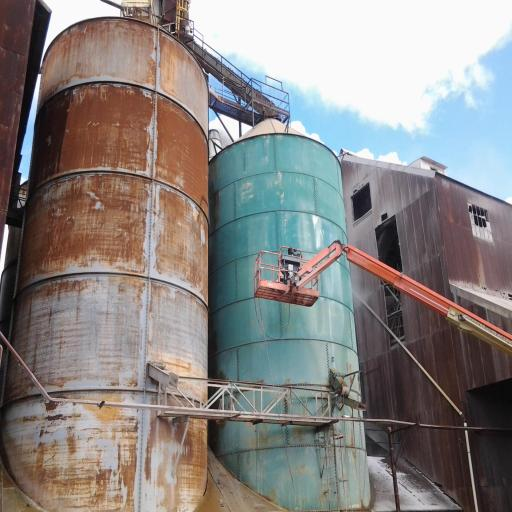segmentation: (10, 17, 208, 404), (0, 357, 207, 510), (340, 151, 512, 333), (350, 264, 512, 427), (34, 84, 153, 187), (40, 18, 157, 104), (150, 183, 207, 304), (156, 96, 207, 214), (403, 431, 475, 512), (159, 35, 207, 132), (80, 174, 149, 232), (469, 432, 512, 512)
